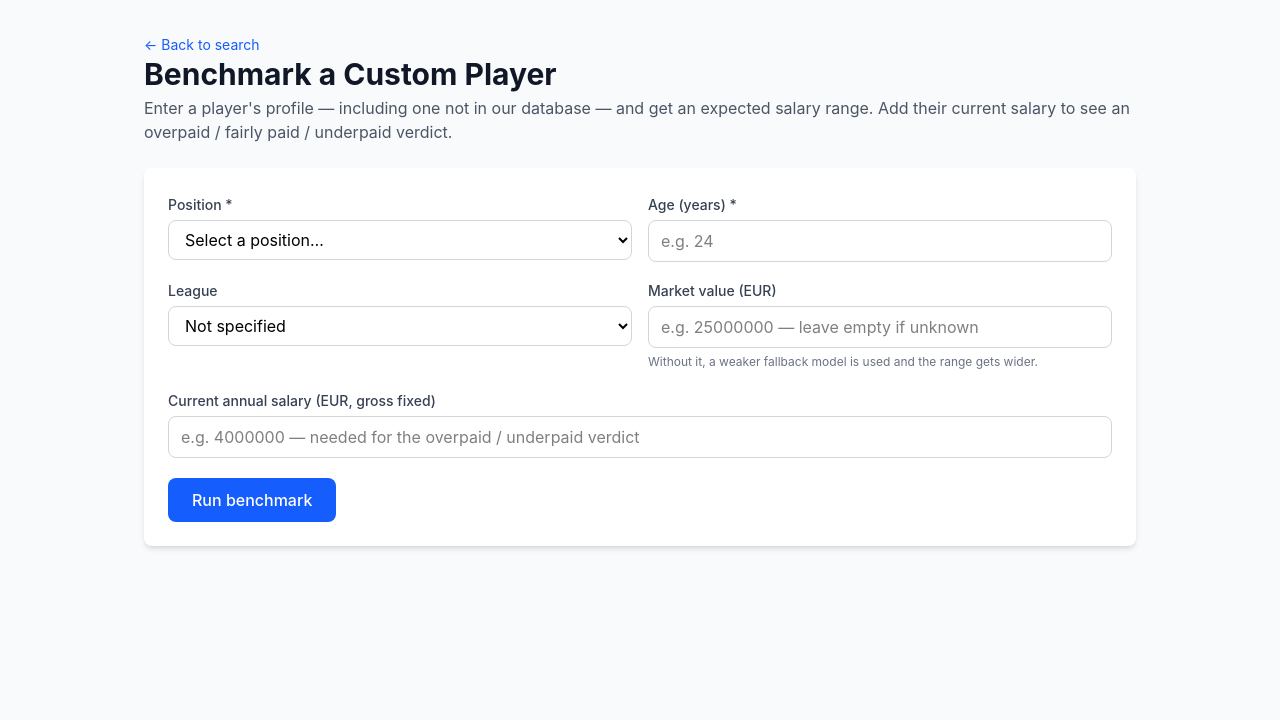
Test case: ManualBenchmark page › offers a SHAP explanation for the submitted custom player
The image size is (1280, 720).
Step 1. Select "Centre-Forward" in the dropdown labelled "Position *" → (400, 240), box x1=168 y1=220 x2=632 y2=260
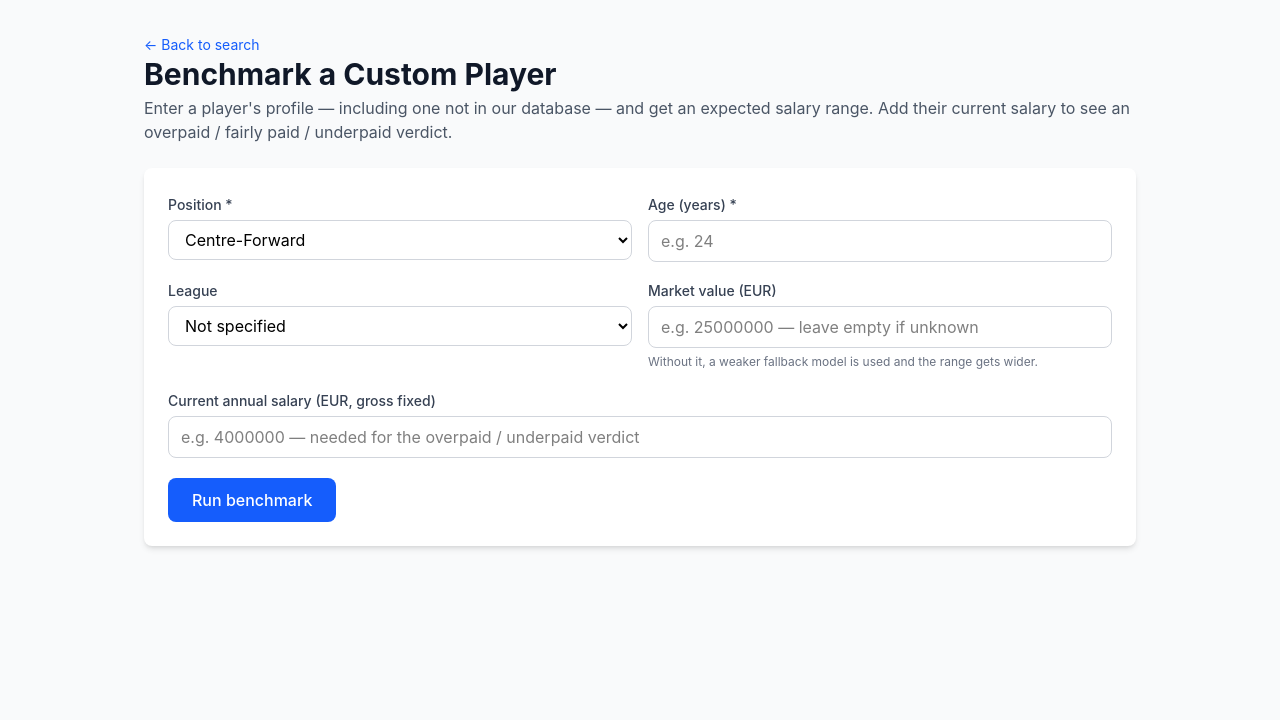
Step 2. Type "25" into the number field labelled "Age (years) *" → (880, 241), box x1=648 y1=220 x2=1112 y2=262
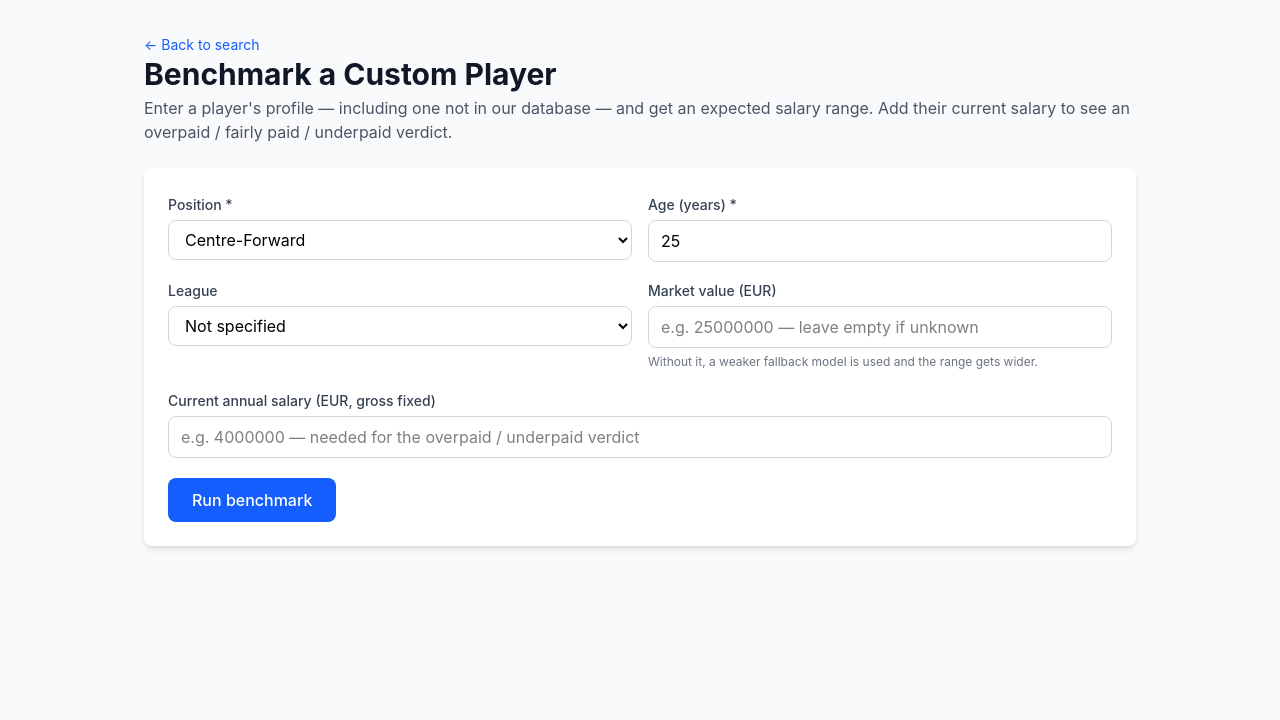
Step 3. Click the button "Run benchmark" → (252, 500), box x1=168 y1=478 x2=336 y2=522
(page scrolled)
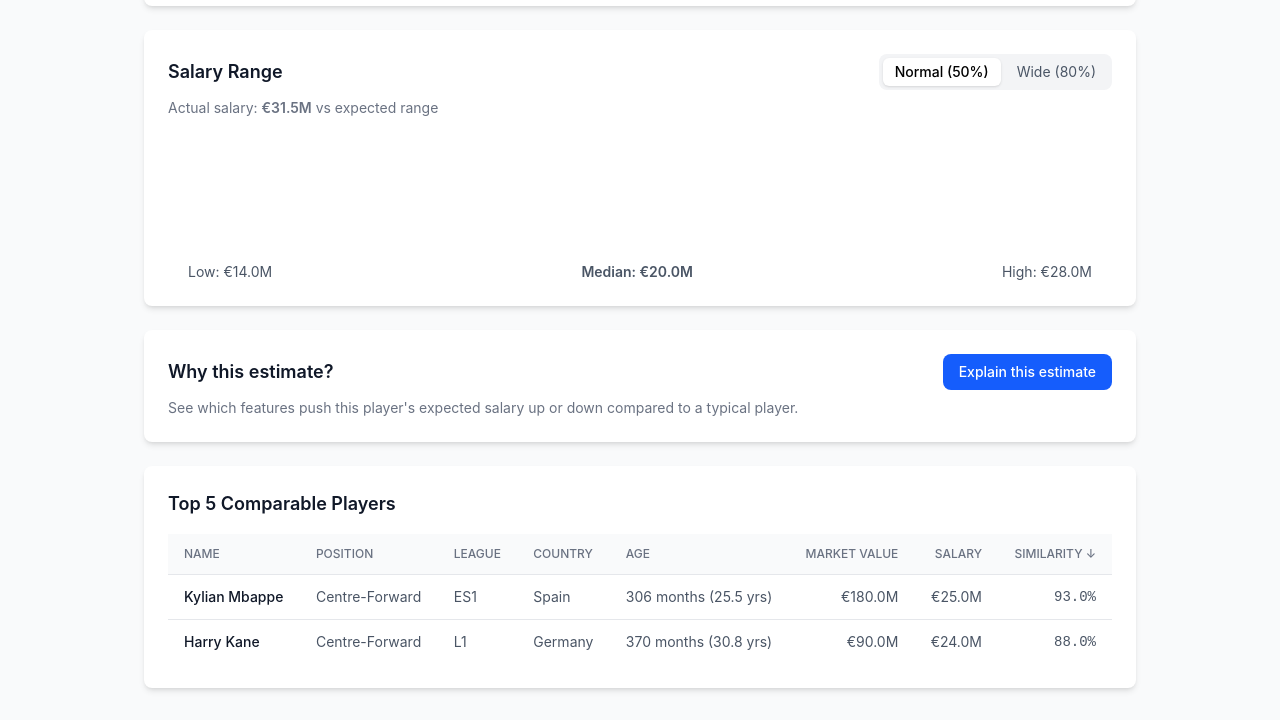
Expected: the heading "Salary Range" is shown, x1=168 y1=58 x2=283 y2=86
Step 4. Click the button "Explain this estimate" → (1027, 372), box x1=943 y1=354 x2=1112 y2=390
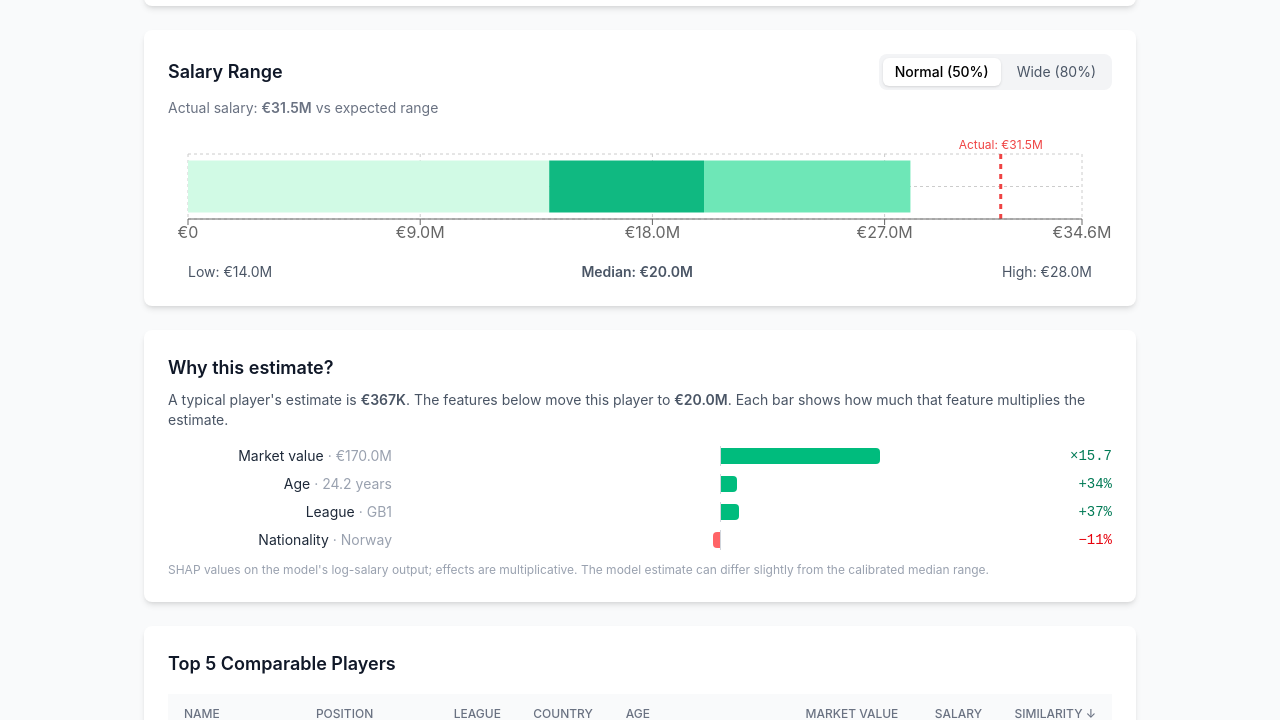
Expected: the text "Market value" is shown, x1=238 y1=447 x2=324 y2=464
